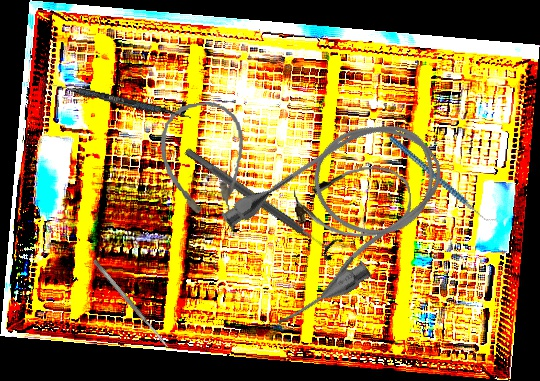Cannula: (208, 93, 471, 336), (155, 98, 253, 224), (292, 164, 414, 241)
Chopper: (388, 111, 499, 248)
Fixation Ring: (178, 138, 345, 264)
Spatula Surgical: (92, 258, 170, 350), (39, 79, 193, 120)
